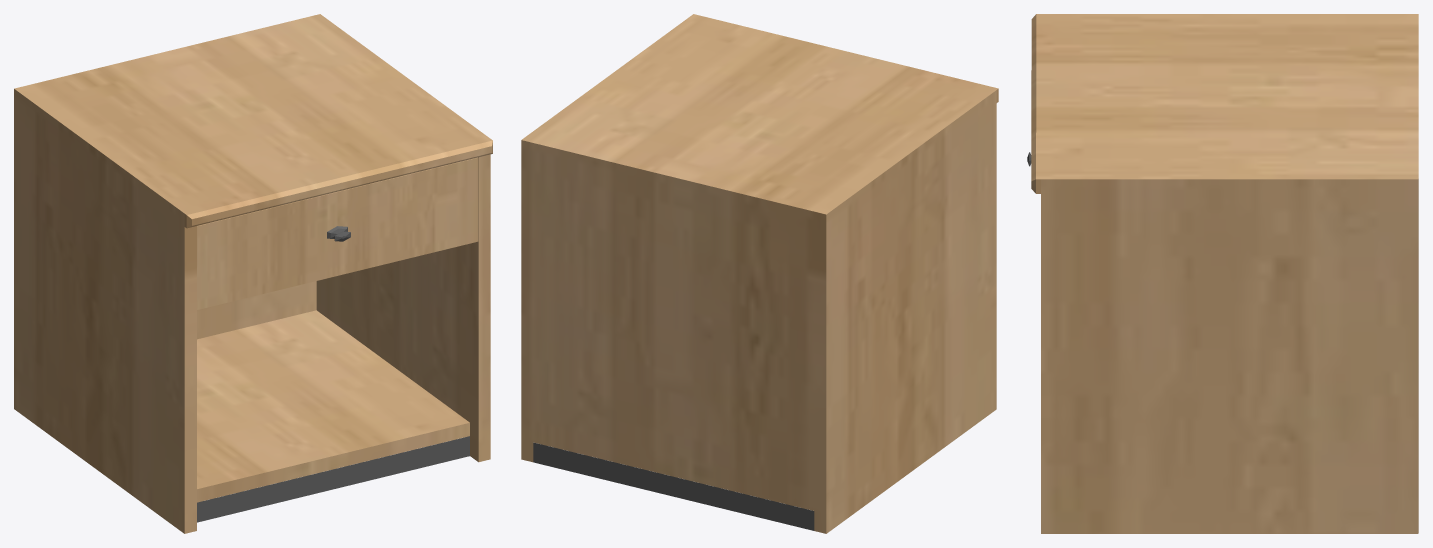
The model's file is sh-bsby-bedside-table.glb.
3 views of the same model, side by side, from view 1: azimuth 30°, elevation 25°; view 2: azimuth 150°, elevation 25°; view 3: azimuth 270°, elevation 25° (orthographic). The views are drawn at different scales.
Parts seen in each view (by area): view 1: Plane_Plane.001, Plane.002; view 2: Plane_Plane.001, Plane.002; view 3: Plane_Plane.001.
Part boxes in pixels (left/top/right/bottom): Plane_Plane.001: left=14, top=14, right=492, bottom=533; Plane.002: left=197, top=436, right=469, bottom=522; Plane_Plane.001: left=521, top=14, right=998, bottom=533; Plane.002: left=533, top=442, right=814, bottom=530; Plane_Plane.001: left=1031, top=14, right=1418, bottom=533.
Size of the model in its own units: 1 by 1 by 1.
2 materials, 1 textured.
